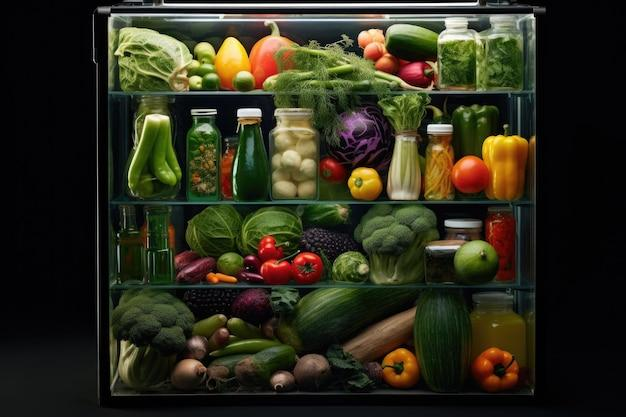bell pepper: (485, 135, 543, 207), (437, 102, 496, 155), (471, 342, 516, 401), (384, 342, 424, 394), (335, 169, 382, 197)
brocolli: (112, 292, 192, 366), (353, 214, 434, 285)
cabbage: (117, 25, 192, 98), (235, 206, 319, 265), (185, 203, 238, 252)
carror: (205, 264, 245, 297)
tomato: (261, 243, 333, 281), (313, 152, 342, 181)
